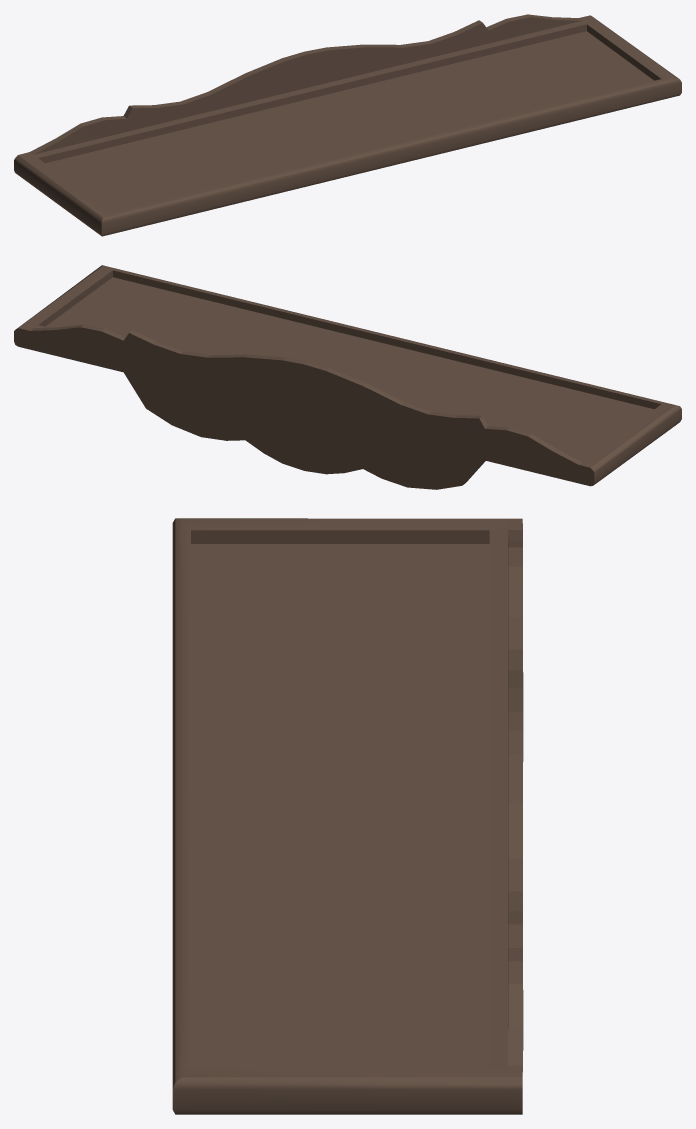
Rendered from Repisa_6x1.fbx.
3 views of the same model, one above another, from view 1: azimuth 30°, elevation 25°; view 2: azimuth 150°, elevation 25°; view 3: azimuth 270°, elevation 25° (orthographic). The views are drawn at different scales.
Parts seen in each view (by area): view 1: Habitacion_Repisa01_GEO; view 2: Habitacion_Repisa01_GEO; view 3: Habitacion_Repisa01_GEO.
Part boxes in pixels (bbox=[...]): Habitacion_Repisa01_GEO: bbox=[14, 14, 681, 236]; Habitacion_Repisa01_GEO: bbox=[14, 265, 681, 489]; Habitacion_Repisa01_GEO: bbox=[172, 518, 523, 1114].
Bounding box in the file's own units: 5.99 × 1.05 × 1.57.
